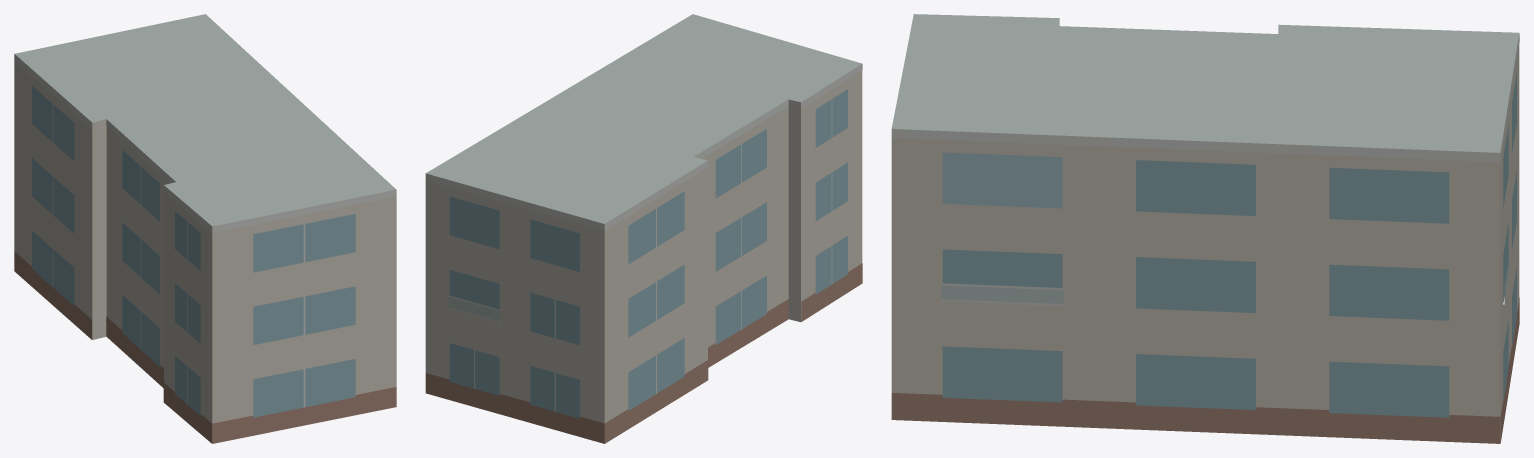
Rendered from survey-upis-32503634.glb.
The picture shows the model from 3 angles, left to right: view 1: azimuth 30°, elevation 25°; view 2: azimuth 150°, elevation 25°; view 3: azimuth 270°, elevation 25°; orthographic projection. The views are drawn at different scales.
Visible parts, largest first — view 1: survey-upis-32503634.tmp; view 2: survey-upis-32503634.tmp; view 3: survey-upis-32503634.tmp.
Boxes of the visible parts, box(x1,y1,x2,y2) form: survey-upis-32503634.tmp: box(14, 14, 396, 443); survey-upis-32503634.tmp: box(425, 14, 862, 443); survey-upis-32503634.tmp: box(891, 14, 1519, 443).
Bounding box in the file's own units: 8 × 7.8 × 15.27.
